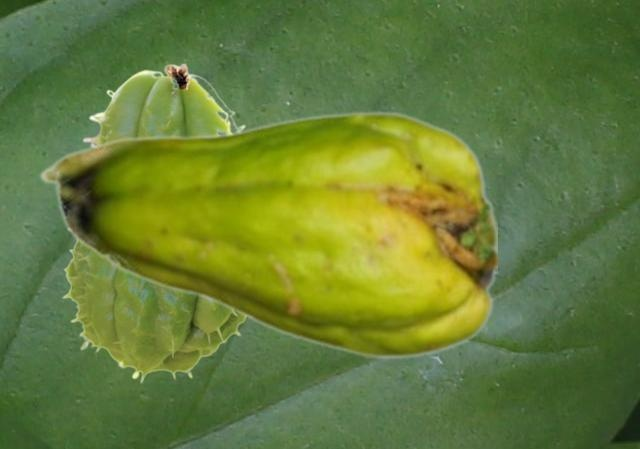sayote: (38, 110, 496, 359), (61, 62, 248, 383)
